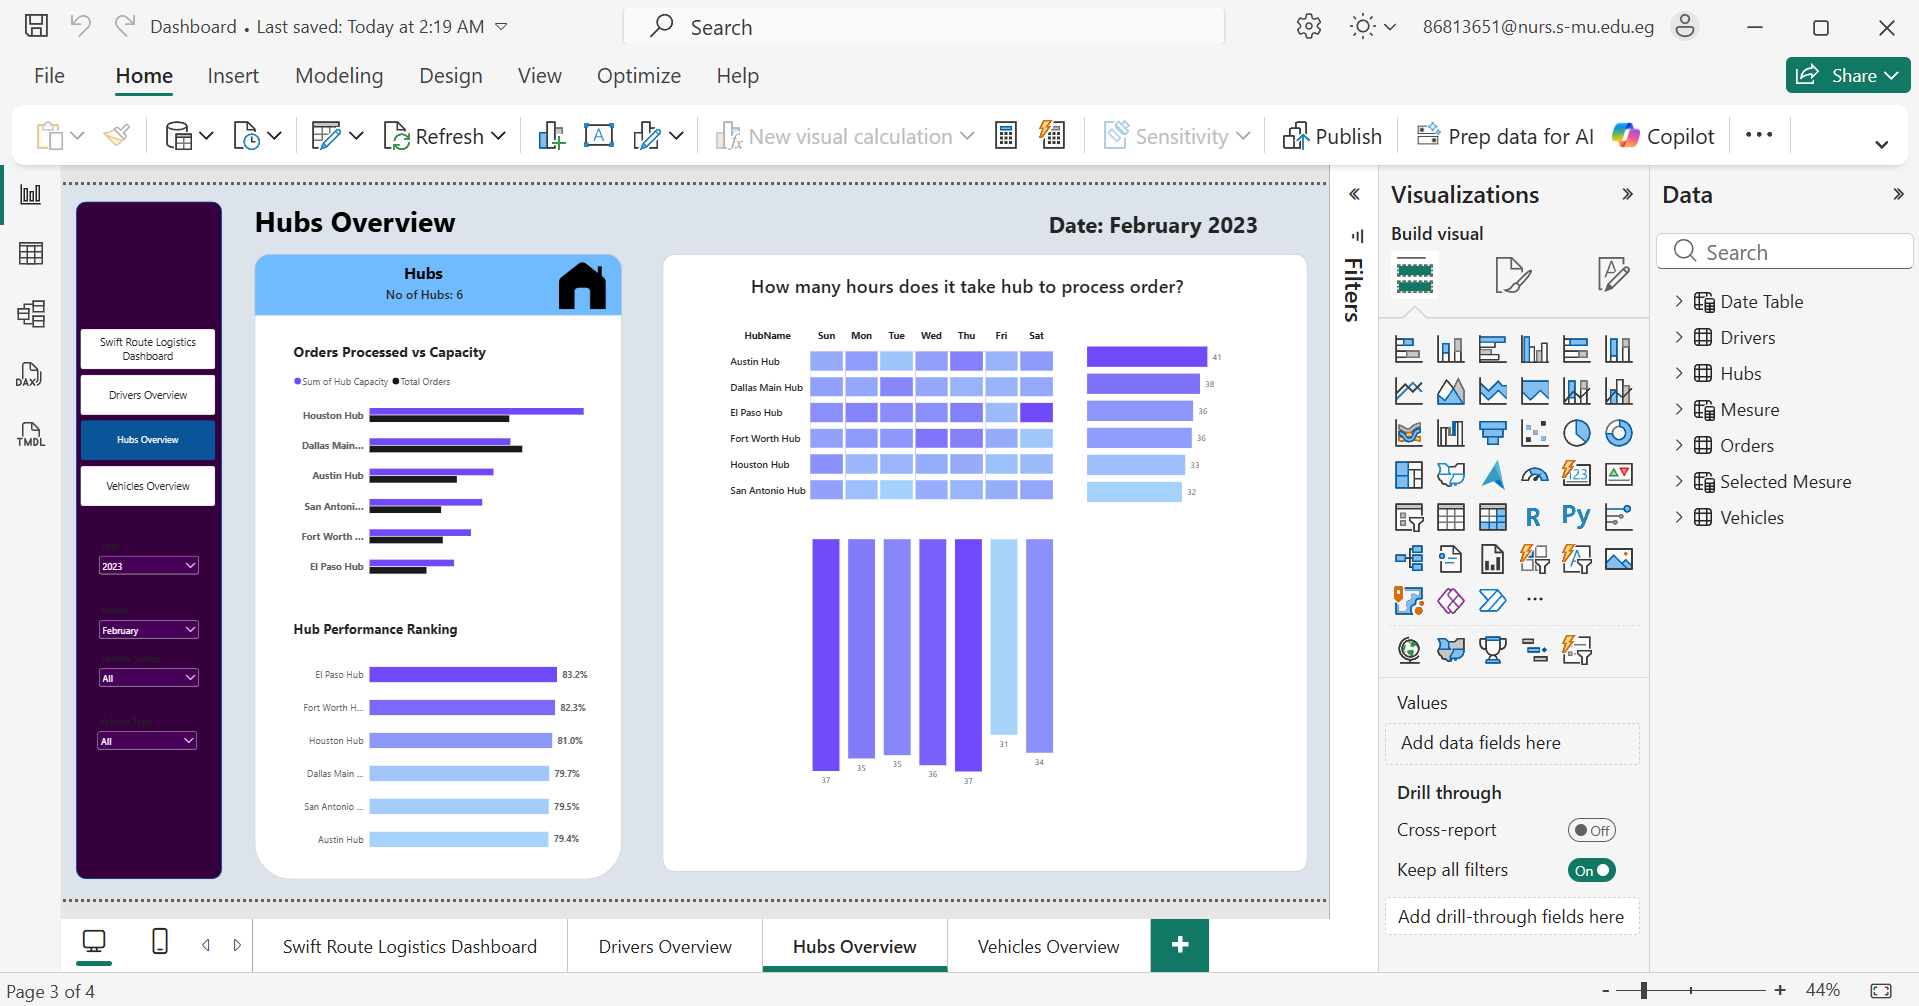

What the dashboard file says about the page in this screenshot:
{"tool":"powerbi","page":{"name":"Hubs Overview","canvas":[1920,1080],"ordinal":2},"visuals":[{"type":"textbox","box":[293,25,440.6,56.8],"z":0},{"type":"cardVisual","fields":{"Data":["Orders.Year Month Title"]},"box":[1421.8,36.3,465.6,45.4],"z":1000},{"type":"shape","box":[910.8,104.5,976.7,935.8],"z":2000},{"type":"shape","box":[293,104.5,556.5,947.1],"z":3000},{"type":"shape","box":[293,104.5,556.5,93.1],"z":4000},{"type":"cardVisual","fields":{"Data":["Hubs.No of Hubs"]},"box":[404.3,140.8,293,47.7],"z":5000},{"type":"clusteredBarChart","title":" Orders Processed vs Capacity","fields":{"Category":["Hubs.HubName"],"Y":["Sum(Hubs.Hub Capacity)","Orders.Total Orders"]},"box":[336.2,222.6,488.3,402],"z":6000},{"type":"barChart","title":"Hub Performance Ranking","fields":{"Category":["Hubs.HubName"],"Y":["Orders.On Time Delivered Rate"]},"box":[336.2,645.1,488.3,395.2],"z":7000},{"type":"textbox","box":[372.5,115.8,352.1,47.7],"z":8000},{"type":"pivotTable","fields":{"Columns":["Date Table.Day"],"Rows":["Hubs.HubName"],"Values":["Orders.Avg Delivery Time (Hrs)"]},"box":[992.6,199.9,526.9,297.5],"z":9000},{"type":"columnChart","fields":{"Category":["Date Table.Day"],"Y":["Orders.Avg Delivery Time (Hrs)"]},"box":[1122,513.3,397.5,417.9],"z":10000},{"type":"barChart","fields":{"Category":["Hubs.HubName"],"Y":["Orders.Avg Delivery Time (Hrs)"]},"box":[1537.7,222.6,299.8,274.8],"z":11000},{"type":"cardVisual","fields":{"Data":["Hubs.Hubs Title"]},"box":[1028.9,129.5,808.6,47.7],"z":12000},{"type":"shape","box":[22.7,25.5,221.1,1026.1],"z":13000},{"type":"slicer","fields":{"Values":["Date Table.Year"]},"box":[52.2,538.3,161.6,90.7],"z":14000},{"type":"slicer","fields":{"Values":["Date Table.Month"]},"box":[52.2,636,161.6,73.7],"z":15000},{"type":"pageNavigator","box":[29.5,218,204.4,270.3],"z":16000},{"type":"slicer","fields":{"Values":["Vehicles.Vehicle Status"]},"box":[52.2,708.6,161.6,73.7],"z":17000},{"type":"slicer","fields":{"Values":["Orders.Vehicle Type"]},"box":[50,804,161.3,81.8],"z":18000},{"type":"image","box":[754,116.2,70.9,73.7],"z":19000}]}

Visuals, with their boxes on the page's 1920x1080 design canvas (x1, y1, x2, y2). These are canvas units, not pixel positions in the 1919x1006 screenshot, which may show the page scaled, cropped or inside an application window:
textbox: bbox=(293, 25, 734, 82)
cardVisual - Orders.Year Month Title: bbox=(1422, 36, 1887, 82)
shape: bbox=(911, 104, 1888, 1040)
shape: bbox=(293, 104, 850, 1052)
shape: bbox=(293, 104, 850, 198)
cardVisual - Hubs.No of Hubs: bbox=(404, 141, 697, 188)
" Orders Processed vs Capacity" clusteredBarChart: bbox=(336, 223, 824, 625)
"Hub Performance Ranking" barChart: bbox=(336, 645, 824, 1040)
textbox: bbox=(372, 116, 725, 164)
pivotTable - Date Table.Day x Hubs.HubName: bbox=(993, 200, 1520, 497)
columnChart - Date Table.Day x Orders.Avg Delivery Time (Hrs): bbox=(1122, 513, 1520, 931)
barChart - Hubs.HubName x Orders.Avg Delivery Time (Hrs): bbox=(1538, 223, 1838, 497)
cardVisual - Hubs.Hubs Title: bbox=(1029, 130, 1838, 177)
shape: bbox=(23, 26, 244, 1052)
slicer - Date Table.Year: bbox=(52, 538, 214, 629)
slicer - Date Table.Month: bbox=(52, 636, 214, 710)
pageNavigator: bbox=(30, 218, 234, 488)
slicer - Vehicles.Vehicle Status: bbox=(52, 709, 214, 782)
slicer - Orders.Vehicle Type: bbox=(50, 804, 211, 886)
image: bbox=(754, 116, 825, 190)
